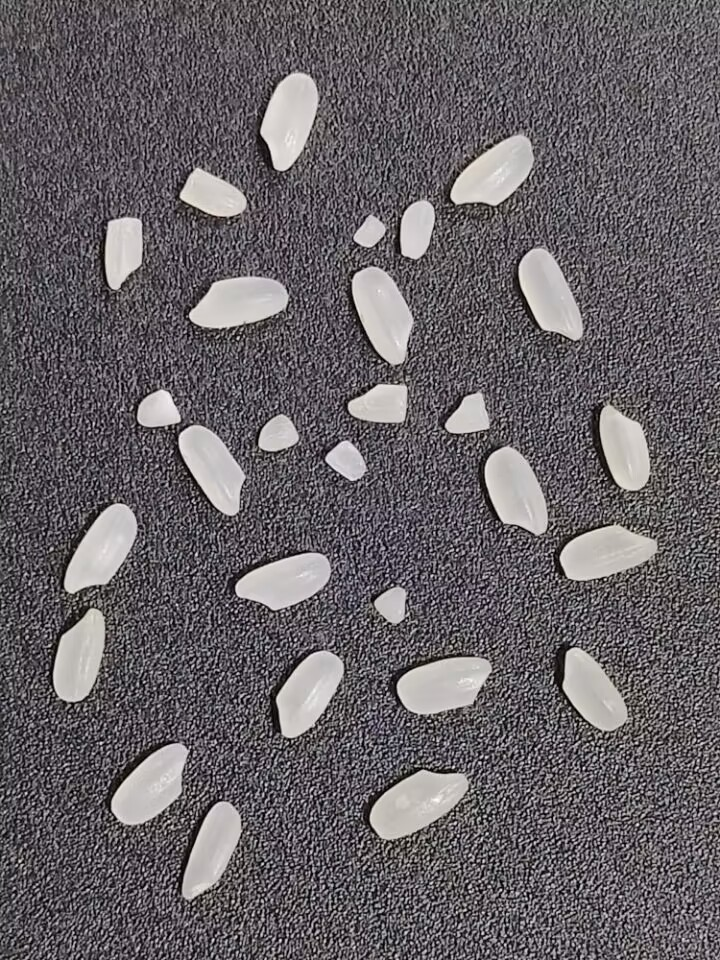broken: (179, 167, 247, 217), (341, 380, 413, 424), (104, 216, 143, 290), (321, 438, 373, 489), (253, 407, 300, 457), (134, 386, 181, 434), (399, 200, 436, 259), (368, 581, 413, 627), (444, 392, 490, 435), (351, 214, 387, 248)
rice: (59, 497, 144, 596), (367, 763, 471, 843), (514, 242, 591, 347), (175, 422, 254, 524), (266, 646, 346, 743), (107, 740, 195, 828), (226, 547, 336, 613), (388, 653, 497, 718), (350, 265, 415, 365), (560, 645, 632, 735), (46, 605, 109, 707), (180, 797, 243, 899), (449, 134, 535, 207), (483, 446, 549, 537), (259, 72, 318, 171), (559, 523, 658, 581), (188, 276, 289, 329), (599, 403, 650, 491)
